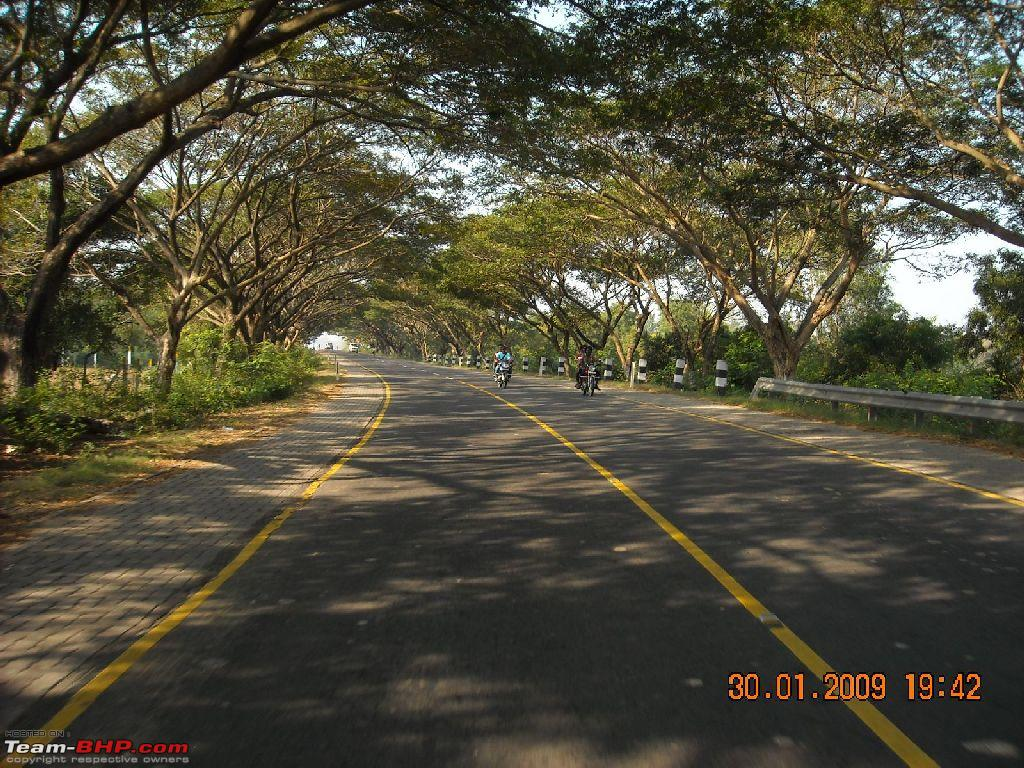Bike: (572, 344, 607, 394), (489, 343, 515, 389)
